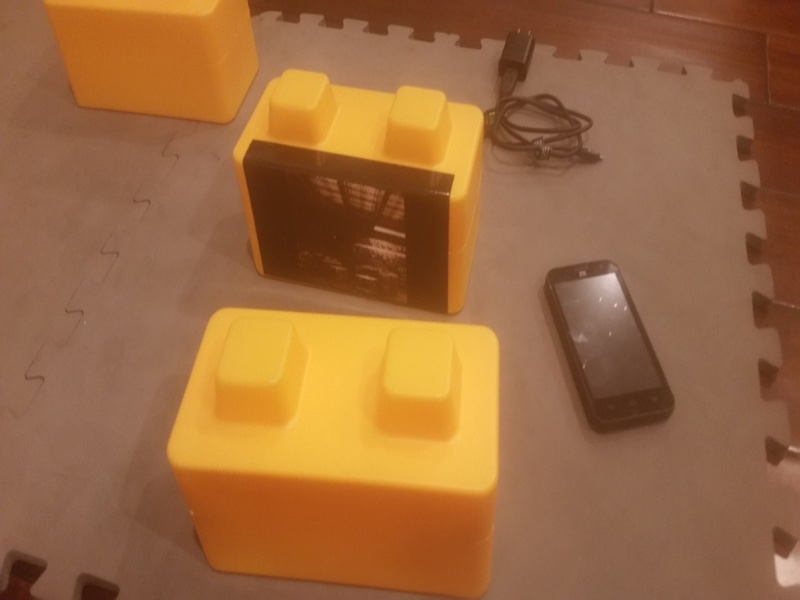Skystone: (234, 72, 509, 317)
Stone: (162, 301, 502, 600), (47, 1, 271, 120)
